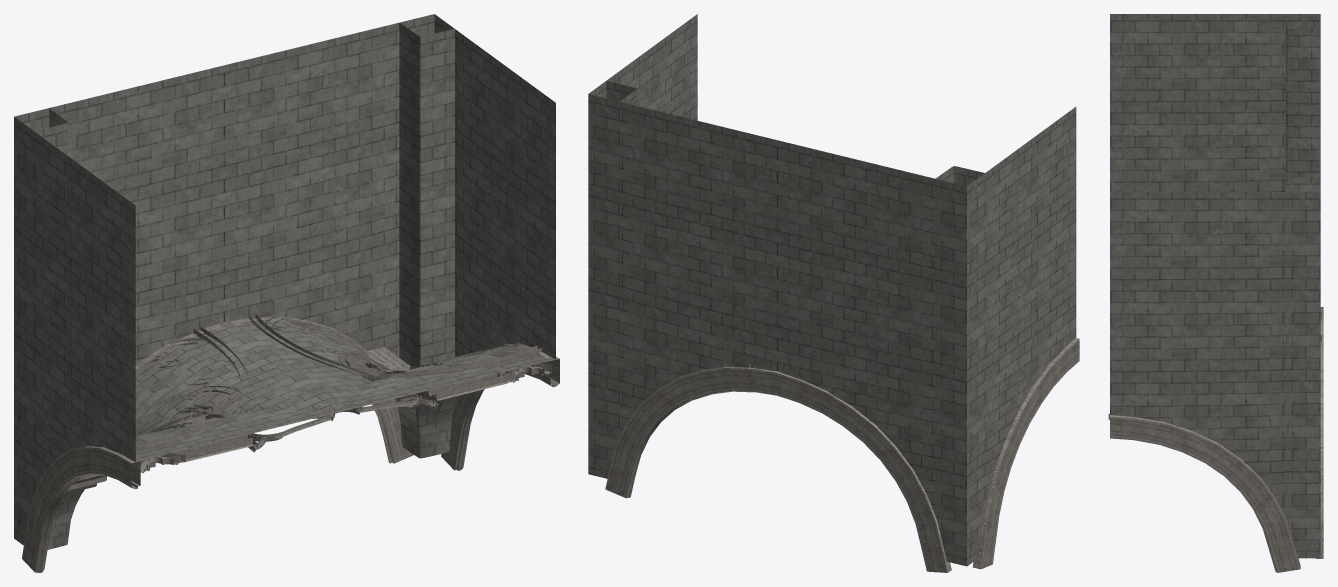
File: SM_ceiling_A_02.fbx
3 renders of one model, left to right at view 1: azimuth 30°, elevation 25°; view 2: azimuth 150°, elevation 25°; view 3: azimuth 270°, elevation 25°, orthographic. The views are drawn at different scales.
Parts seen in each view (by area): view 1: SM_ceiling_A_02_LOD0; view 2: SM_ceiling_A_02_LOD0; view 3: SM_ceiling_A_02_LOD0.
Boxes of the visible parts, left/top/right/bottom form: SM_ceiling_A_02_LOD0: left=14, top=14, right=559, bottom=572; SM_ceiling_A_02_LOD0: left=588, top=14, right=1079, bottom=572; SM_ceiling_A_02_LOD0: left=1108, top=14, right=1323, bottom=572.
Bounding box in the file's own units: 1015 × 509 × 990.
